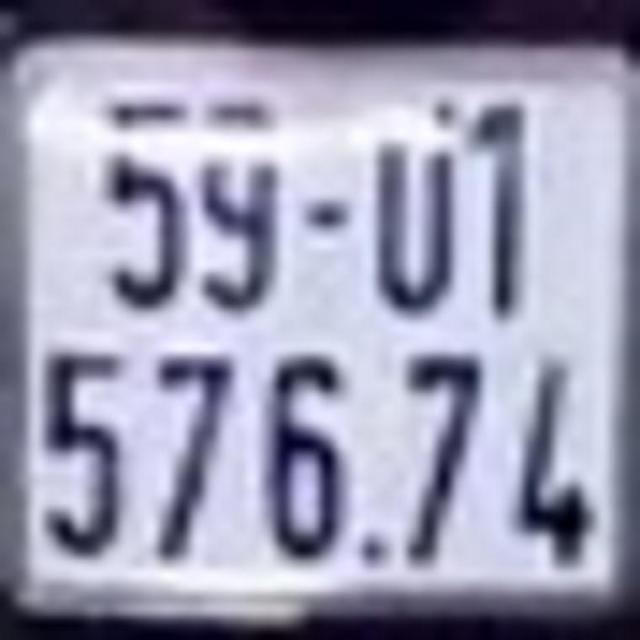1: (476, 93, 518, 324)
4: (522, 350, 594, 564)
5: (40, 352, 126, 564), (112, 100, 180, 308)
6: (276, 348, 334, 556)
7: (398, 348, 488, 560), (148, 345, 232, 553)
9: (210, 95, 278, 308)
U: (372, 87, 459, 316)
